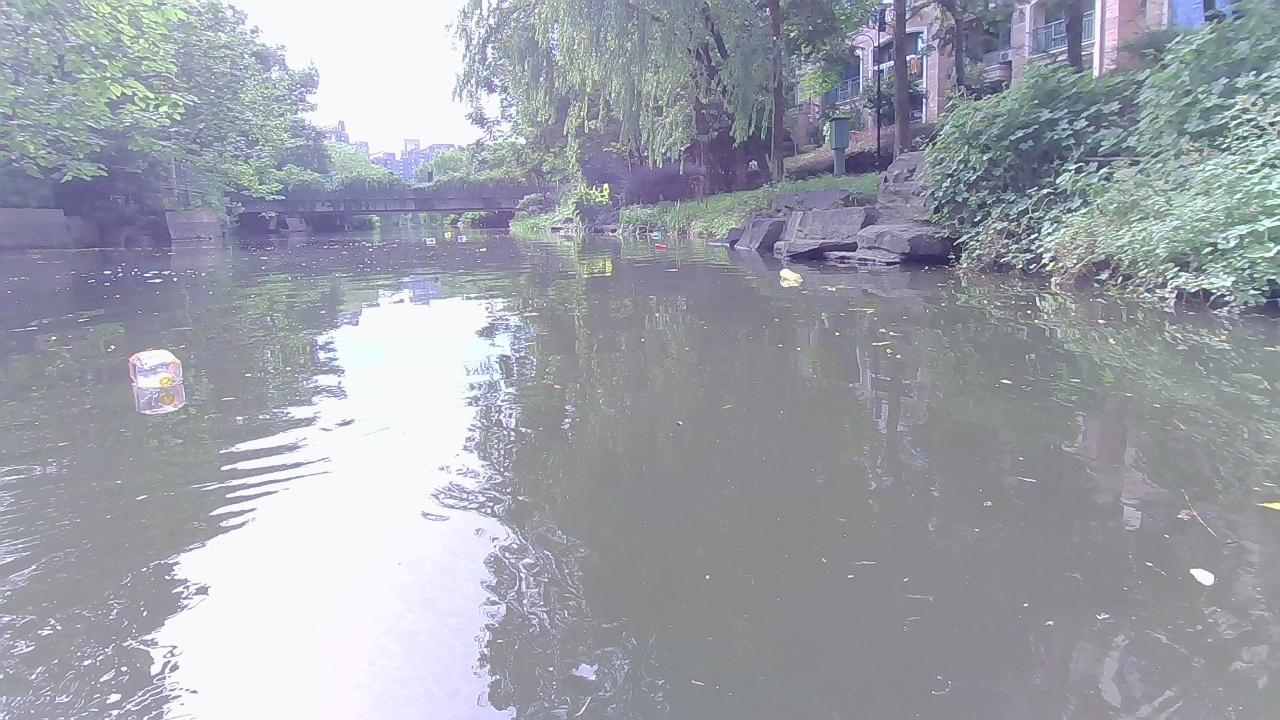bottle: (126, 343, 183, 389), (776, 267, 810, 289), (654, 241, 666, 251), (422, 237, 435, 245), (649, 227, 659, 236), (442, 227, 451, 236), (455, 235, 466, 241)
